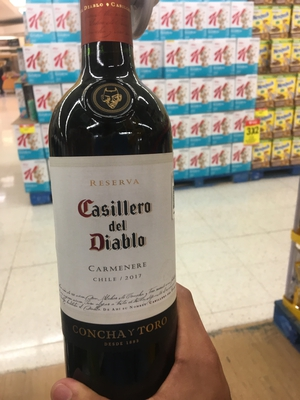casillero del diablo carmenere: (48, 22, 189, 400)
